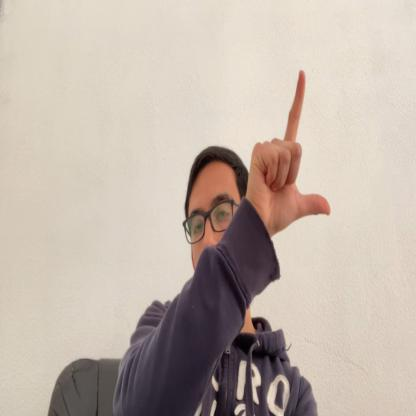L: (247, 70, 331, 244)
